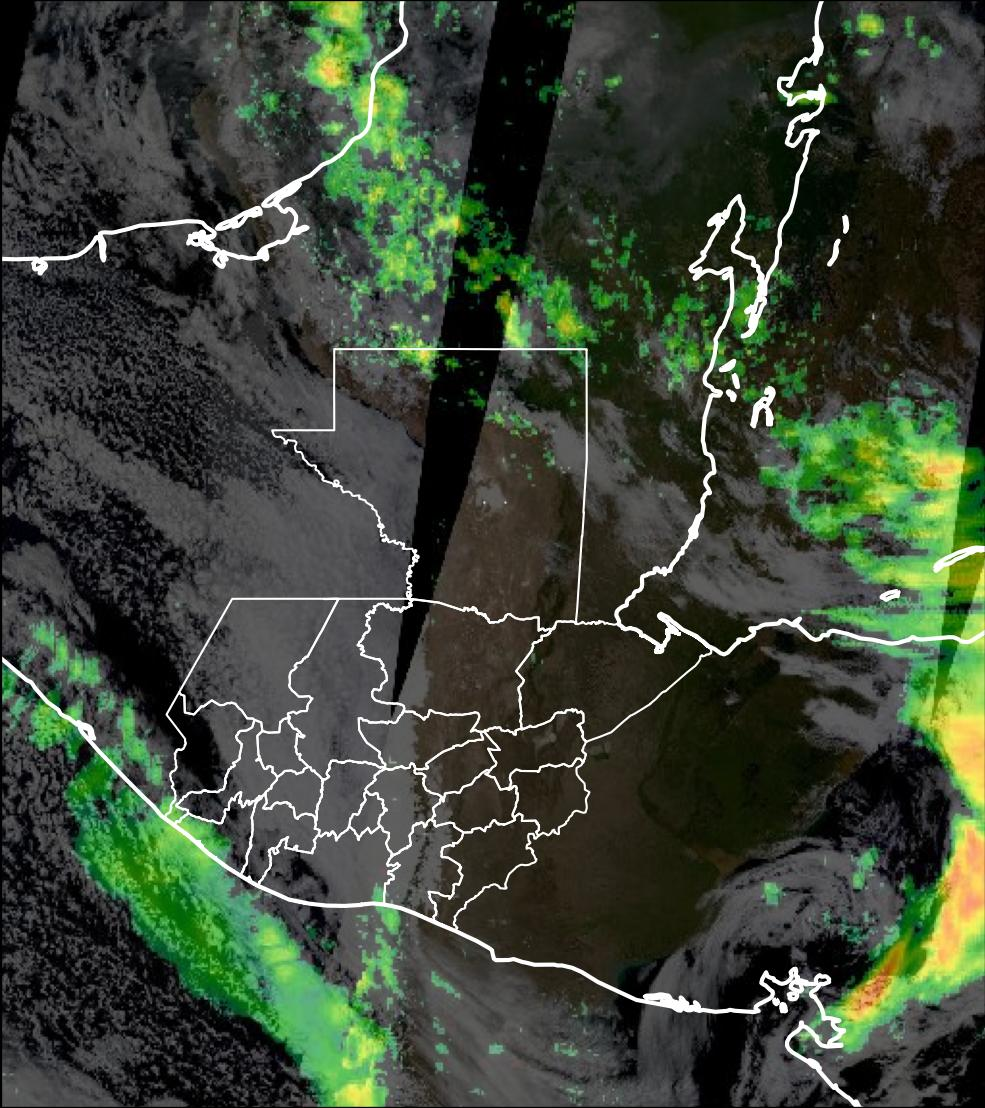precipitacion: (909, 822, 985, 981)
